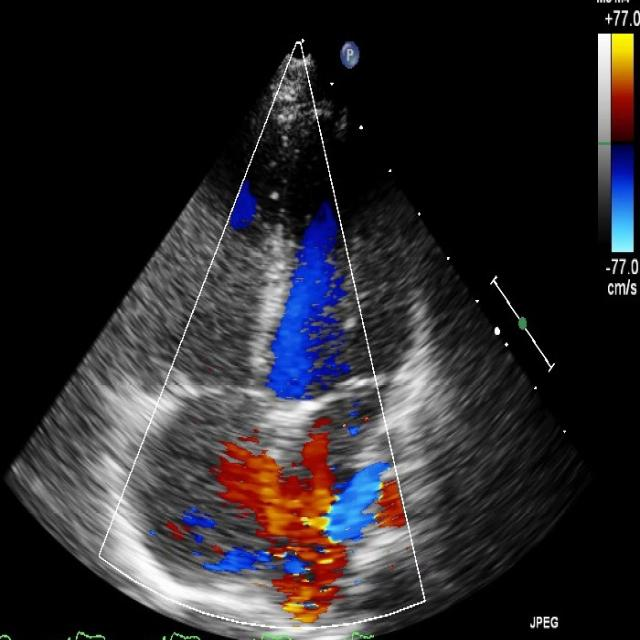ASDType2: (215, 447, 357, 542), (223, 549, 353, 577)
